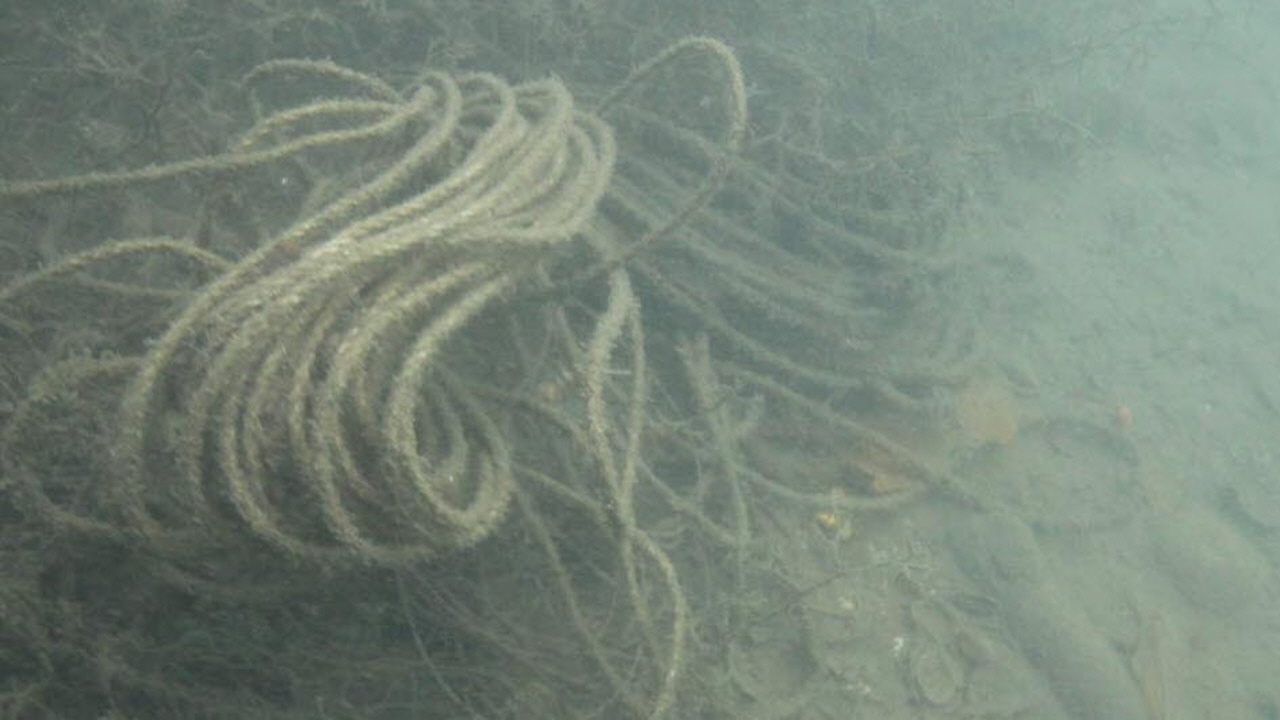bundle of ropes: (0, 28, 1151, 720)
